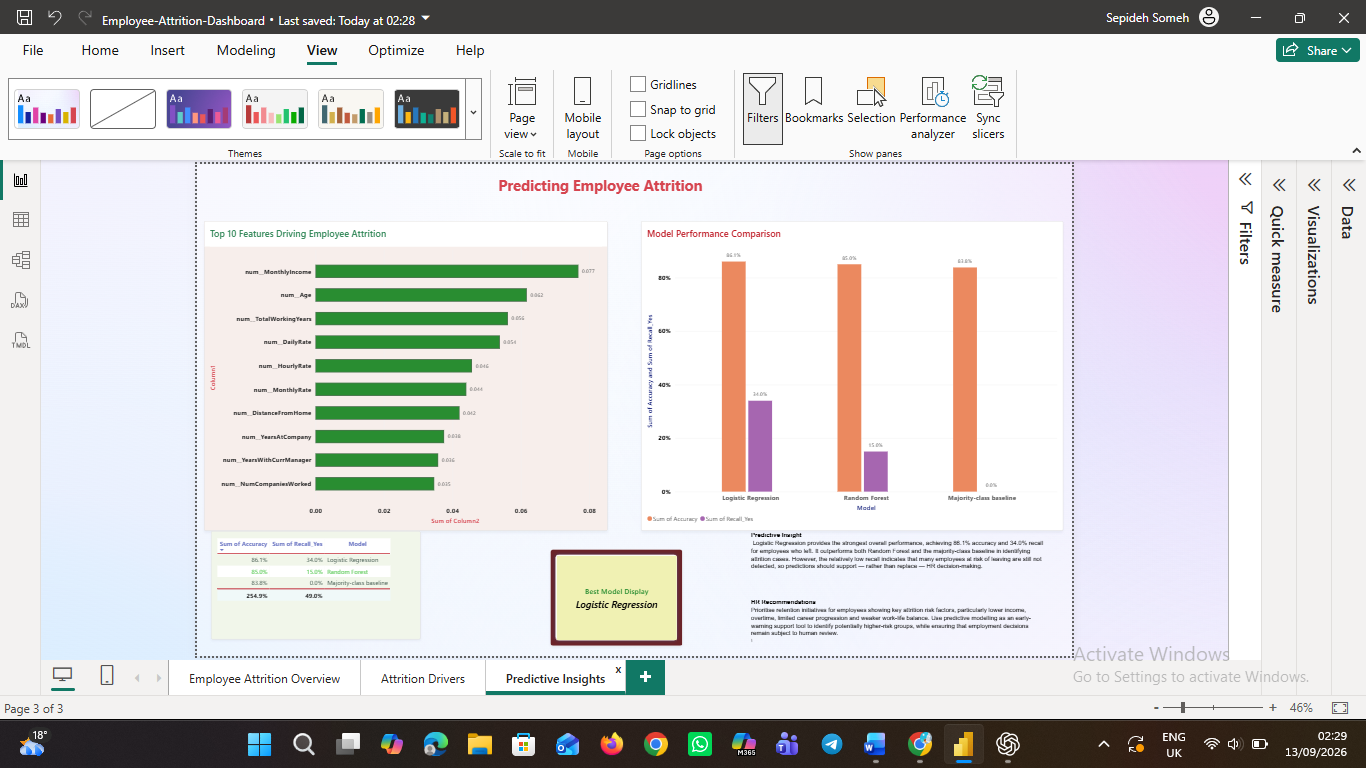

The page's visual inventory and layout, read from the dashboard file:
{"tool":"powerbi","page":{"name":"Predictive Insights","canvas":[1920,1080],"ordinal":2},"visuals":[{"type":"textbox","box":[624.2,23.8,524,80],"z":0},{"type":"clusteredBarChart","title":"Top 10 Features Driving Employee Attrition","fields":{"Category":["feature_importance.Column1"],"Y":["Sum(feature_importance.Column2)"]},"box":[15.1,125.3,885.6,680.4],"z":1},{"type":"clusteredColumnChart","title":"Model Performance Comparison","fields":{"Category":["model_comparison.Model"],"Y":["Sum(model_comparison.Accuracy)","Sum(model_comparison.Recall_Yes)"]},"box":[974.2,125.3,926.6,680.4],"z":2},{"type":"tableEx","fields":{"Values":["Sum(model_comparison.Accuracy)","Sum(model_comparison.Recall_Yes)","model_comparison.Model"]},"box":[30.2,805.7,460.1,237.6],"z":3},{"type":"textbox","box":[1216.1,952.6,619.9,127.4],"z":5},{"type":"textbox","box":[1216.1,805.7,643.7,118.8],"z":6},{"type":"cardVisual","fields":{"Data":["feature_importance.Best Model Display"]},"box":[775.4,844.6,291.6,213.8],"z":7}]}

Visuals, with their boxes on the page's 1920x1080 design canvas (x1, y1, x2, y2). These are canvas units, not pixel positions in the 1366x768 screenshot, which may show the page scaled, cropped or inside an application window:
textbox: select_region(624, 24, 1148, 104)
"Top 10 Features Driving Employee Attrition" clusteredBarChart: select_region(15, 125, 901, 806)
"Model Performance Comparison" clusteredColumnChart: select_region(974, 125, 1901, 806)
tableEx - Sum(model_comparison.Accuracy) x Sum(model_comparison.Recall_Yes): select_region(30, 806, 490, 1043)
textbox: select_region(1216, 953, 1836, 1080)
textbox: select_region(1216, 806, 1860, 924)
cardVisual - feature_importance.Best Model Display: select_region(775, 845, 1067, 1058)
